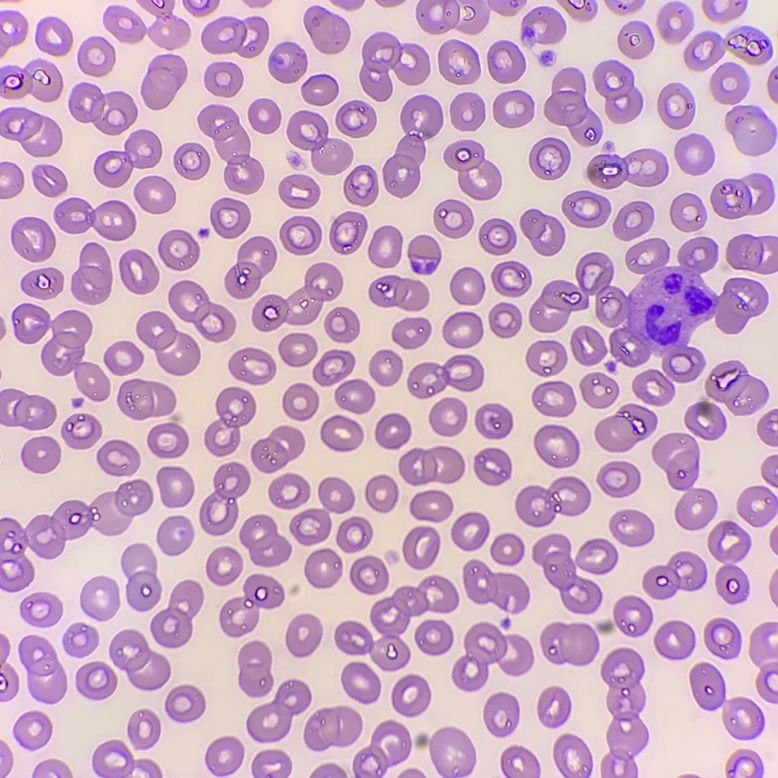RBC: (529, 237, 765, 405), (0, 480, 152, 590), (335, 576, 458, 670), (540, 596, 651, 665), (685, 361, 767, 439), (652, 433, 716, 529), (41, 310, 109, 400), (252, 263, 342, 330), (383, 95, 442, 196), (601, 648, 645, 777), (198, 106, 263, 193), (690, 663, 762, 738), (452, 623, 532, 690), (533, 534, 600, 613), (360, 33, 429, 100), (544, 69, 599, 145), (290, 478, 353, 544), (287, 111, 352, 174), (137, 311, 199, 375), (169, 281, 235, 341), (220, 574, 283, 636), (247, 680, 310, 741), (94, 130, 161, 187), (516, 477, 590, 526), (110, 630, 170, 690), (200, 463, 249, 534), (69, 83, 137, 134), (684, 30, 768, 71), (54, 198, 135, 240), (205, 387, 255, 455), (151, 581, 202, 647), (444, 140, 501, 199), (463, 561, 528, 611), (408, 355, 483, 398), (353, 721, 410, 777), (586, 149, 667, 188), (708, 521, 747, 602), (225, 237, 276, 298), (415, 727, 475, 777), (593, 62, 641, 123), (0, 108, 61, 156), (22, 636, 66, 702), (643, 552, 705, 598), (595, 404, 655, 451), (202, 17, 268, 57), (240, 515, 290, 566), (122, 544, 160, 610), (711, 176, 770, 218), (399, 446, 464, 484), (304, 706, 361, 749), (71, 243, 111, 304), (251, 426, 304, 472), (141, 55, 186, 109), (0, 62, 62, 101), (416, 0, 488, 33), (140, 0, 189, 48), (725, 106, 772, 155), (118, 379, 175, 419), (749, 622, 777, 701), (0, 389, 55, 429), (369, 275, 428, 310), (726, 235, 777, 273), (11, 217, 55, 261), (304, 10, 349, 53), (520, 210, 563, 255), (238, 641, 272, 696), (534, 425, 578, 467), (438, 41, 479, 84), (562, 191, 610, 227), (119, 250, 158, 293), (229, 348, 275, 384), (529, 138, 569, 179), (553, 734, 591, 777), (81, 577, 119, 619), (210, 198, 249, 238), (280, 216, 321, 254), (392, 675, 430, 716), (657, 85, 693, 128), (159, 230, 198, 269), (268, 42, 306, 82), (654, 620, 694, 658), (342, 662, 380, 702), (134, 176, 175, 213), (93, 740, 134, 777), (286, 614, 322, 656), (532, 381, 575, 416), (610, 510, 653, 545), (613, 202, 652, 240), (737, 486, 774, 526), (165, 685, 205, 722), (330, 212, 366, 253), (403, 527, 439, 568), (97, 440, 139, 475), (484, 693, 518, 736), (487, 43, 524, 82), (434, 200, 473, 237), (13, 304, 50, 343), (21, 436, 60, 473), (493, 91, 533, 127), (157, 466, 193, 506), (76, 662, 116, 698), (710, 63, 745, 104), (313, 350, 354, 385), (321, 416, 362, 451), (597, 461, 638, 496), (521, 12, 564, 45), (452, 512, 489, 550), (206, 737, 243, 775), (336, 101, 375, 137), (157, 516, 193, 555), (576, 538, 616, 573), (21, 592, 62, 626), (78, 39, 115, 76), (674, 137, 711, 174), (429, 398, 466, 435), (474, 448, 511, 485), (350, 556, 387, 593), (305, 549, 341, 587), (443, 312, 482, 347), (148, 422, 187, 457), (704, 618, 739, 657), (279, 174, 319, 208), (61, 414, 101, 448), (269, 474, 309, 508), (206, 547, 242, 584), (492, 261, 530, 296), (527, 341, 566, 375), (335, 379, 374, 413), (344, 165, 377, 205), (127, 709, 160, 749), (369, 226, 401, 267), (410, 490, 452, 521), (581, 373, 618, 408), (106, 8, 144, 42), (204, 62, 242, 96), (571, 326, 605, 364), (174, 143, 209, 179), (479, 219, 515, 254), (21, 268, 63, 298), (283, 383, 318, 419), (450, 93, 484, 130), (475, 404, 512, 438), (415, 620, 452, 654), (104, 341, 142, 374), (408, 235, 440, 274), (538, 687, 570, 726), (375, 414, 410, 449), (450, 268, 484, 304), (17, 711, 51, 747), (657, 6, 690, 43), (279, 333, 316, 366), (325, 307, 359, 342), (337, 517, 371, 552), (670, 194, 702, 231), (501, 746, 539, 777), (618, 24, 652, 58), (369, 350, 402, 385), (0, 635, 18, 699), (392, 318, 430, 348), (39, 21, 72, 55), (64, 623, 98, 656), (366, 475, 397, 511), (248, 99, 280, 133), (489, 303, 521, 337), (252, 750, 291, 777), (302, 75, 337, 105), (0, 16, 27, 54), (33, 165, 66, 196), (491, 534, 523, 564), (702, 0, 743, 22), (0, 163, 23, 198), (757, 409, 777, 446), (37, 759, 71, 777), (488, 0, 523, 15), (761, 455, 777, 486), (312, 764, 346, 777), (138, 759, 161, 777), (570, 4, 594, 21), (615, 0, 642, 14), (737, 749, 758, 765), (334, 0, 362, 9), (767, 76, 777, 101), (770, 574, 777, 602), (0, 760, 11, 777), (401, 769, 422, 777), (770, 529, 777, 551), (726, 761, 735, 777), (246, 0, 267, 6), (206, 0, 218, 10), (379, 0, 399, 6), (194, 8, 204, 16), (72, 398, 81, 406), (560, 0, 569, 6), (0, 322, 4, 335), (0, 742, 5, 751), (183, 0, 191, 5)
